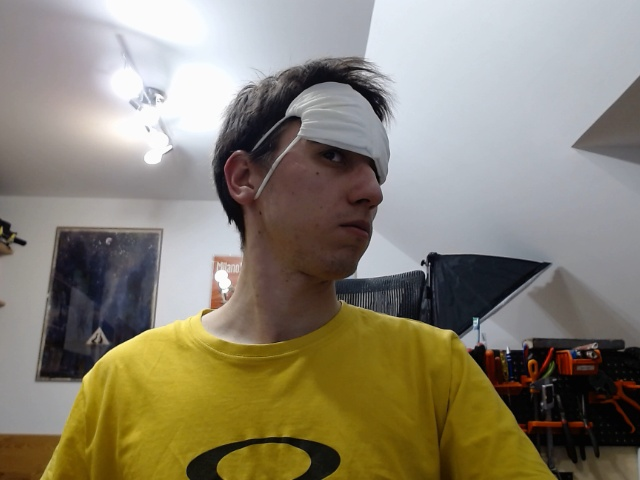WrongMask: (219, 71, 394, 285)
